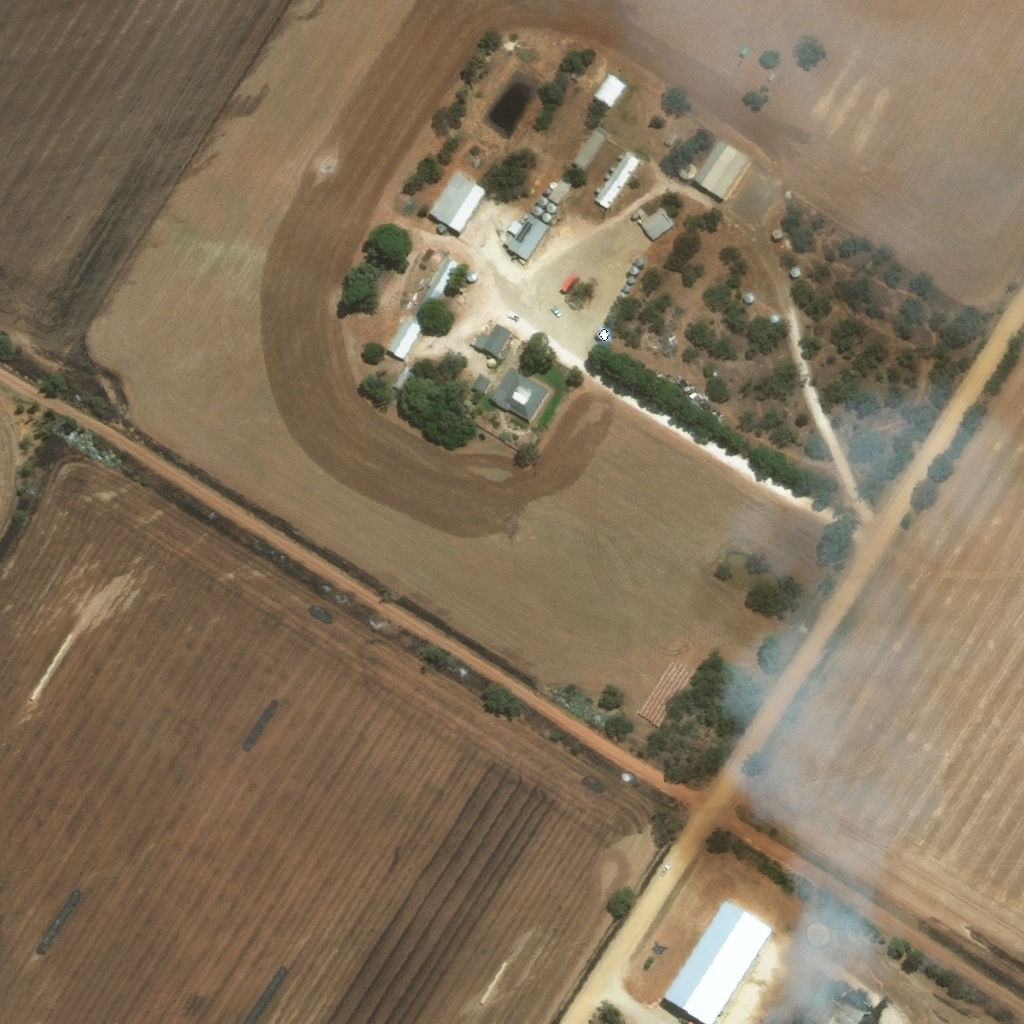0 no-damage: (660, 894, 778, 1023), (427, 169, 486, 232), (693, 136, 751, 199), (487, 365, 548, 422), (592, 152, 639, 208), (500, 212, 548, 260), (420, 256, 457, 306), (570, 125, 608, 170), (384, 316, 421, 358), (631, 205, 675, 240), (591, 67, 627, 108), (470, 321, 511, 356), (546, 177, 571, 204), (804, 921, 829, 947), (469, 373, 489, 394), (392, 367, 410, 387), (678, 164, 694, 178), (767, 313, 778, 323), (531, 203, 542, 213), (743, 292, 753, 302), (546, 201, 556, 211), (540, 210, 550, 220), (435, 221, 445, 231), (634, 254, 643, 264), (788, 267, 798, 276), (537, 194, 547, 203), (616, 291, 625, 300), (629, 264, 637, 273), (485, 358, 494, 366), (626, 274, 633, 283), (621, 283, 629, 290), (594, 186, 599, 191), (603, 172, 608, 177), (608, 165, 613, 170), (617, 153, 622, 157)
3 destroyed: (800, 982, 870, 1023)
4 un-classified: (738, 280, 750, 291), (740, 269, 752, 280), (598, 316, 609, 327), (764, 224, 775, 235), (770, 200, 781, 211), (603, 306, 613, 316), (750, 301, 760, 311), (759, 307, 769, 316)
